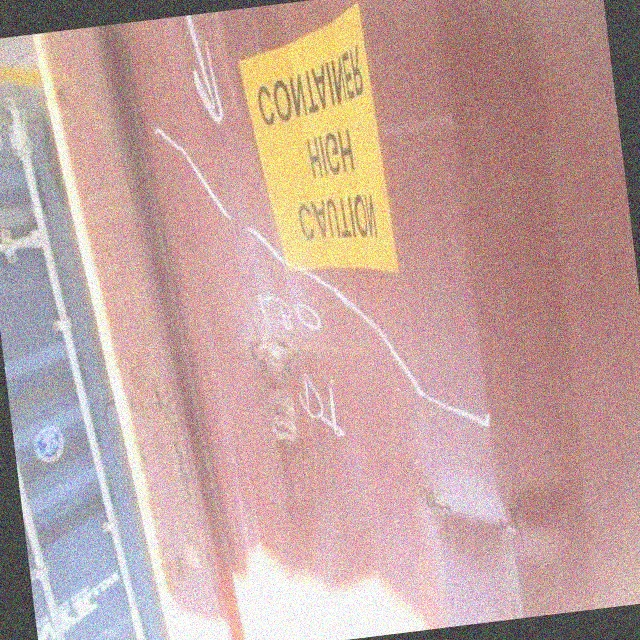Dent: (146, 131, 602, 627)
